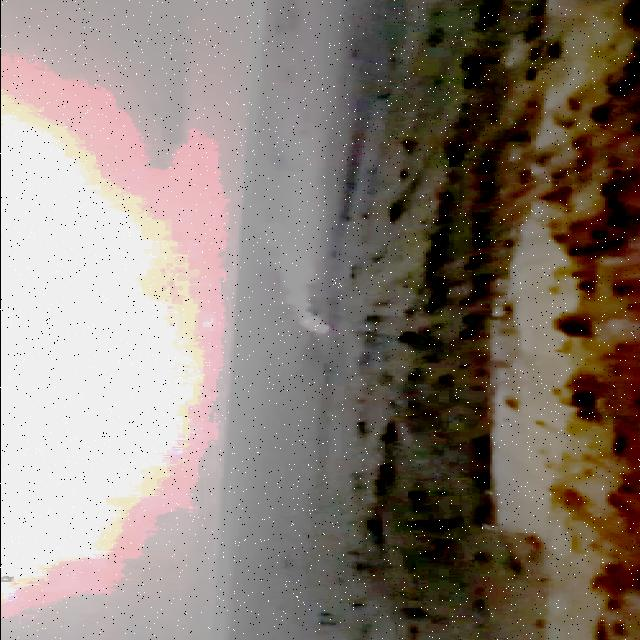asap: (262, 198, 342, 340)
